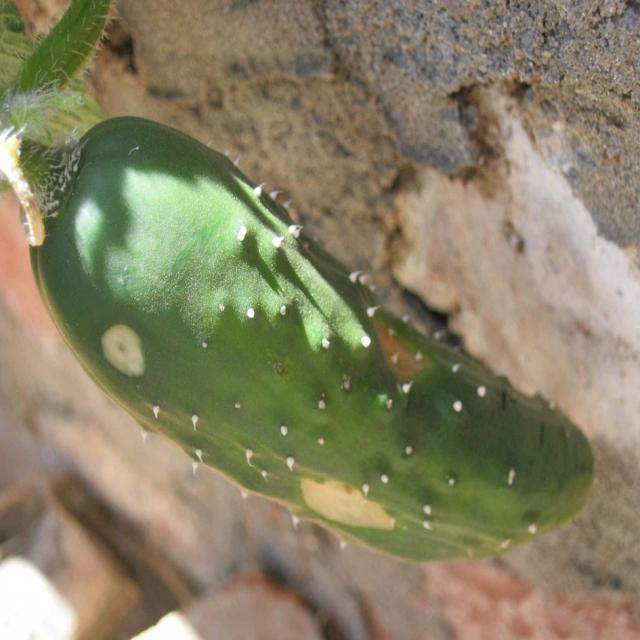Fruit fly: (333, 310, 431, 432), (294, 453, 418, 547)
